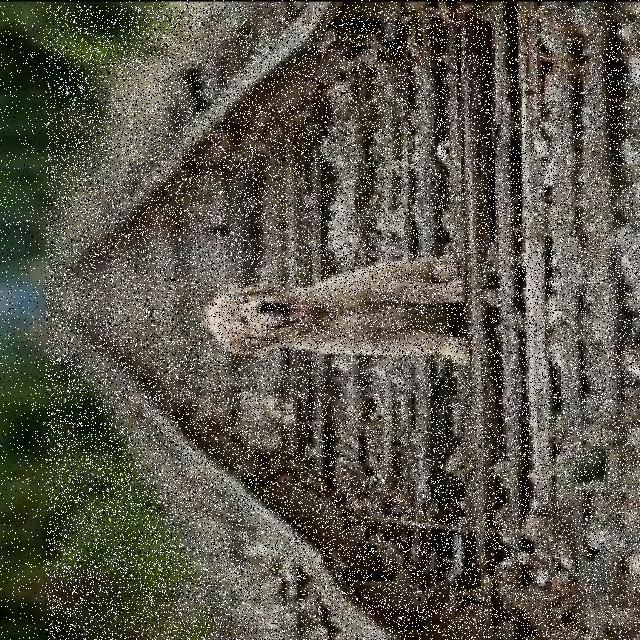rail: (47, 7, 640, 640)
